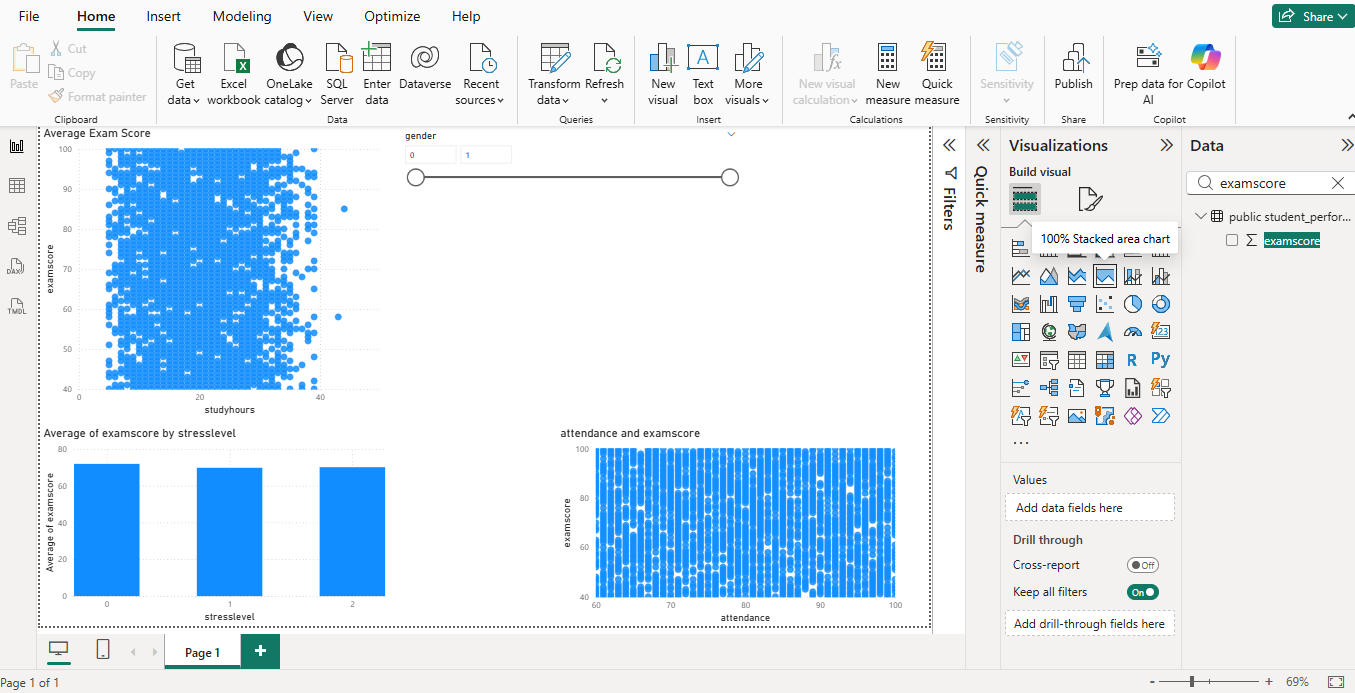

The dashboard page shown, as its layout file describes it:
{"tool":"powerbi","page":{"name":"Page 1","canvas":[1280,720],"ordinal":0},"visuals":[{"type":"scatterChart","title":"Average Exam Score","fields":{"X":["public student_performance.studyhours"],"Y":["public student_performance.examscore"]},"box":[0,0,502.3,421.6],"z":0},{"type":"clusteredColumnChart","fields":{"Category":["public student_performance.stresslevel"],"Y":["Avg(public student_performance.examscore)"]},"box":[0,432,502,288],"z":1},{"type":"slicer","fields":{"Values":["public student_performance.gender"]},"box":[512,0,502,422],"z":2},{"type":"scatterChart","fields":{"X":["public student_performance.attendance"],"Y":["public student_performance.examscore"]},"box":[744.8,431.4,501.8,288.7],"z":3}]}

Visuals, with their boxes on the page's 1280x720 design canvas (x1, y1, x2, y2). These are canvas units, not pixel positions in the 1355x693 screenshot, which may show the page scaled, cropped or inside an application window:
"Average Exam Score" scatterChart: <bbox>0, 0, 502, 422</bbox>
clusteredColumnChart - public student_performance.stresslevel x Avg(public student_performance.examscore): <bbox>0, 432, 502, 720</bbox>
slicer - public student_performance.gender: <bbox>512, 0, 1014, 422</bbox>
scatterChart - public student_performance.attendance x public student_performance.examscore: <bbox>745, 431, 1247, 720</bbox>
